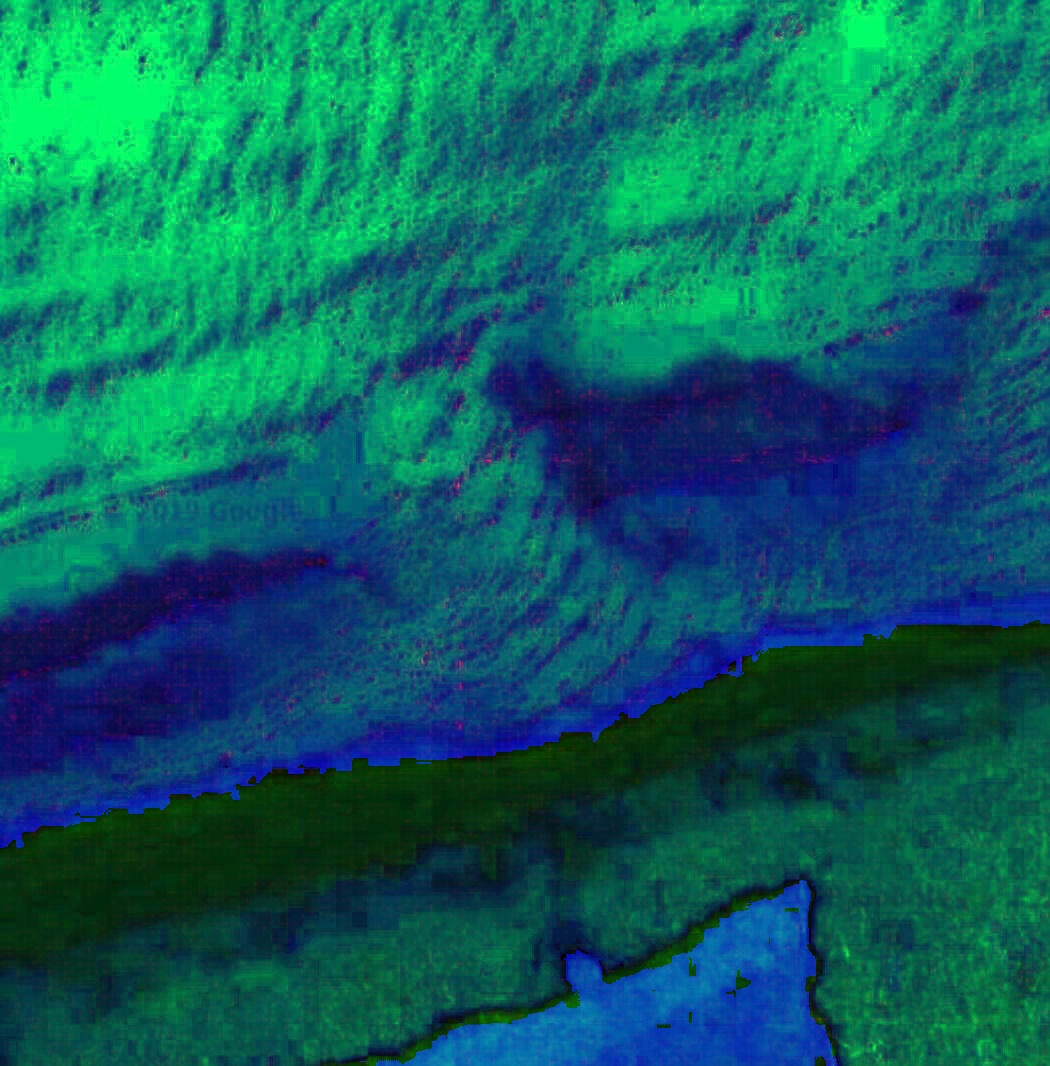rip_current: (325, 356, 653, 710)
